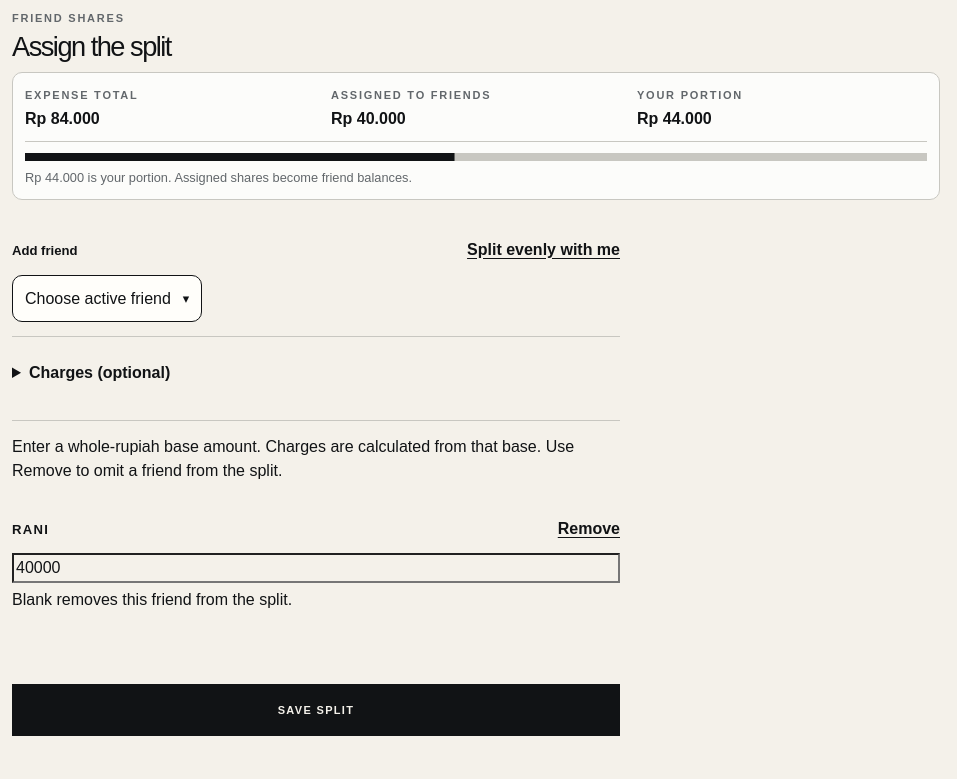
Test case: expense share editor › renders selected rows only, adds an active friend, and focuses its amount
Check: the field labelled "Rani" is shown, box x1=12 y1=553 x2=620 y2=583
Check: the field labelled "Siti" is not shown
Click the dropdown named "Add friend" at (107, 299), box x1=12 y1=275 x2=202 y2=322
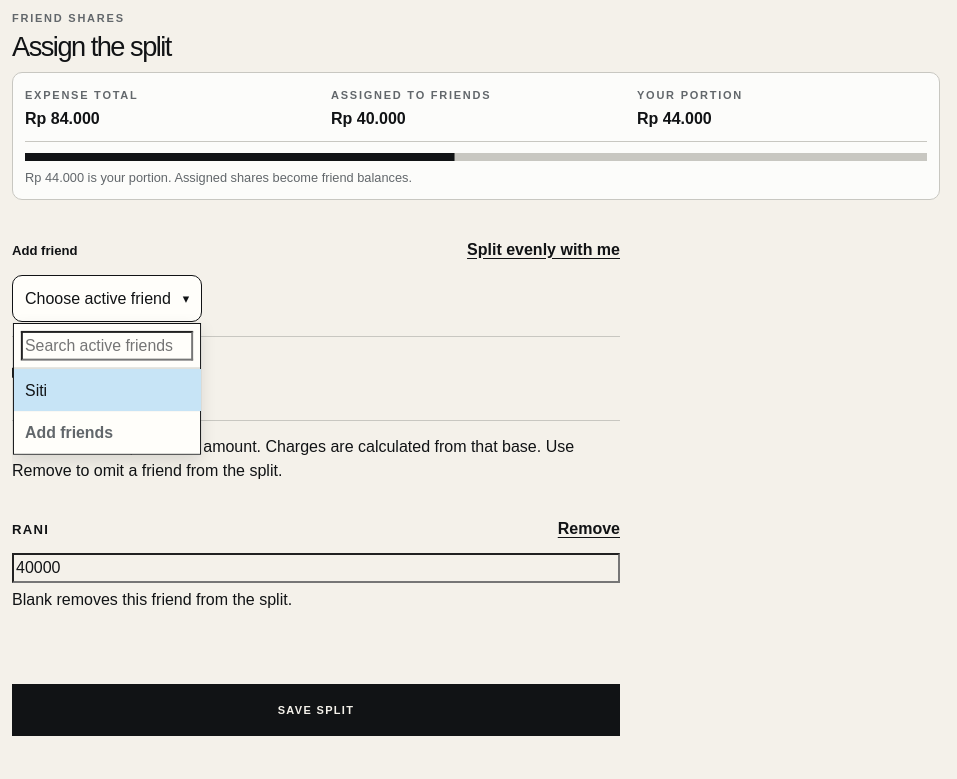
Type "Siti" into the search field labelled "Search active friends" at (107, 346), box x1=21 y1=331 x2=193 y2=361
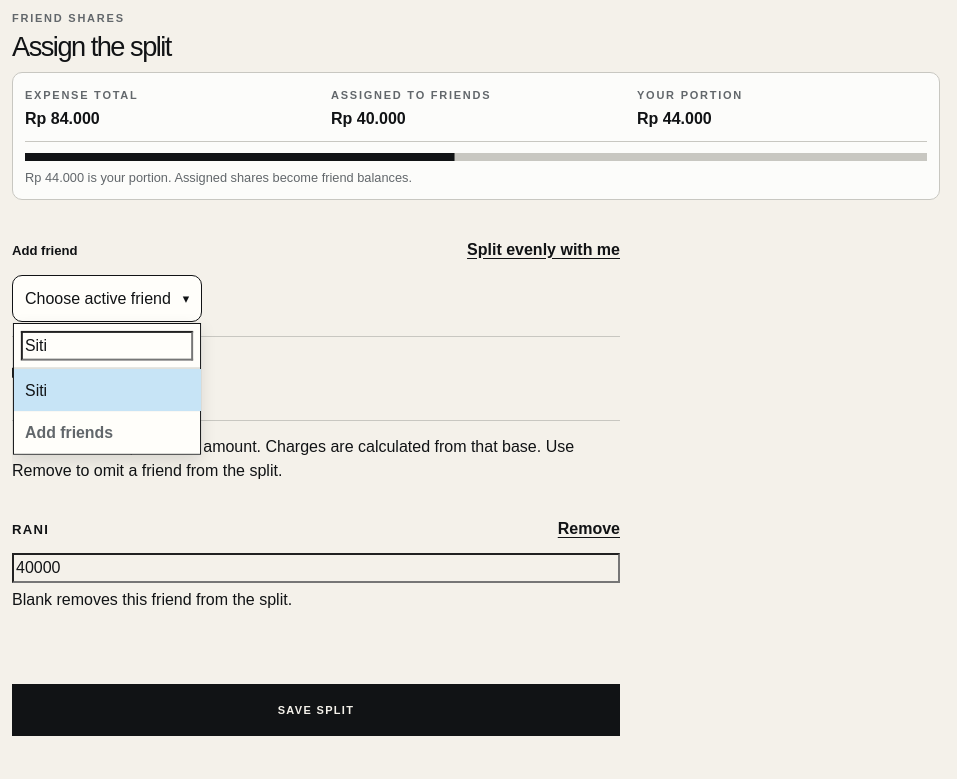
Check: the option "Siti" is shown
Click the option "Siti" at (107, 390), box x1=14 y1=369 x2=200 y2=412
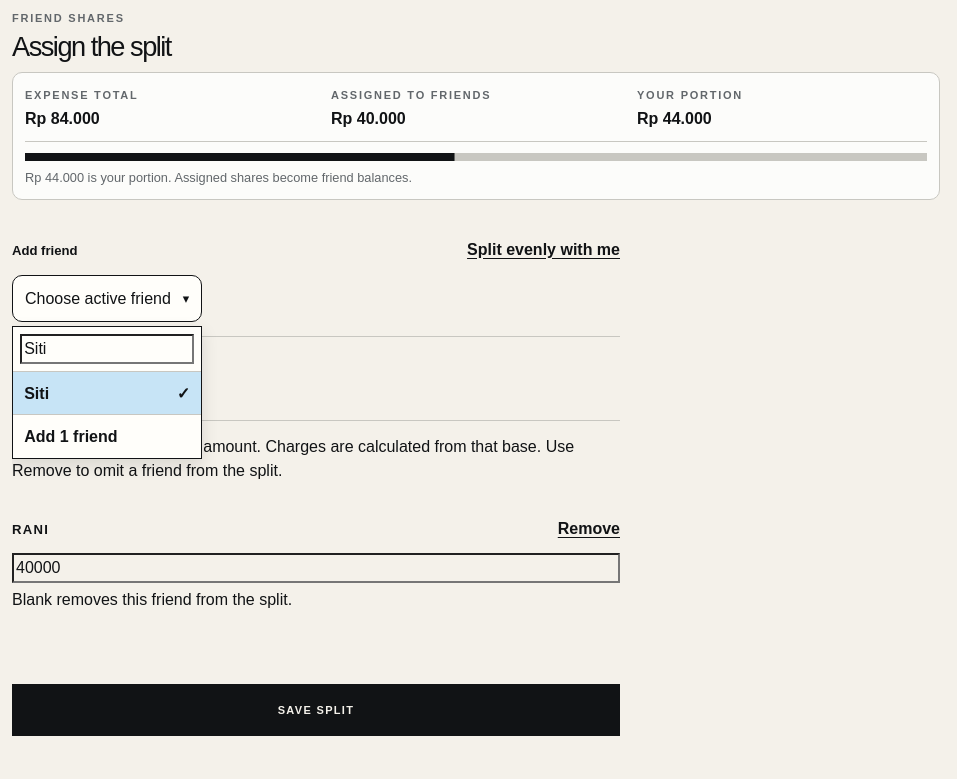
Click the button "Add 1 friend" at (107, 436), box x1=13 y1=414 x2=201 y2=458
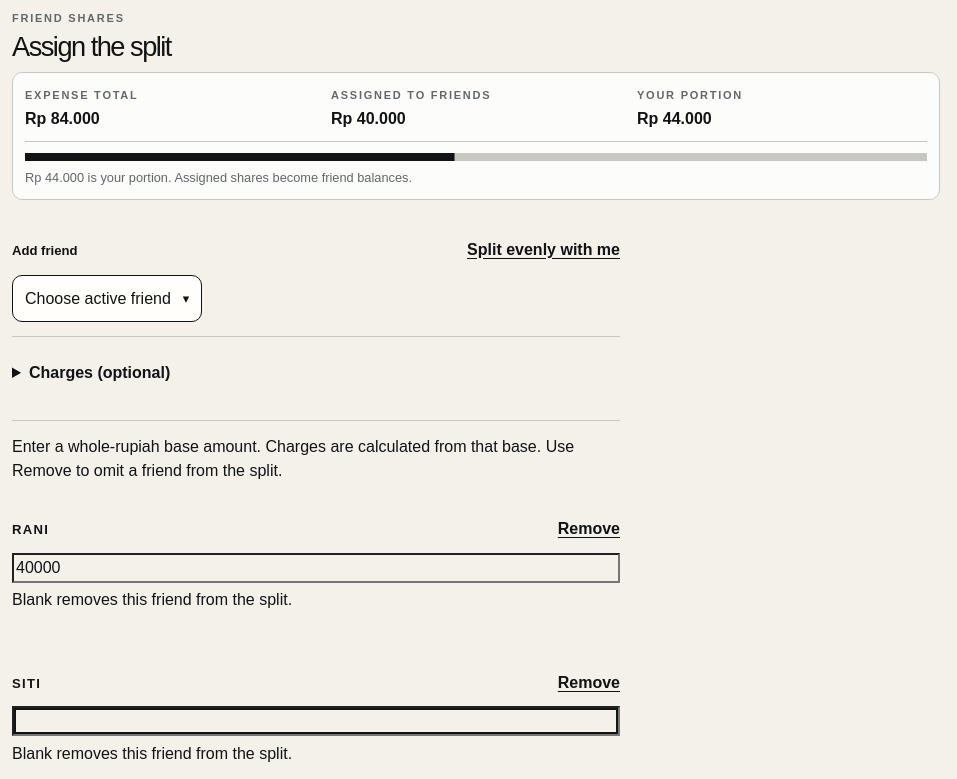
Check: the dropdown named "Add friend" shows "Choose active friend", box x1=12 y1=275 x2=202 y2=322
Check: the button with aria-label "Remove Siti" is shown, box x1=558 y1=665 x2=620 y2=701
